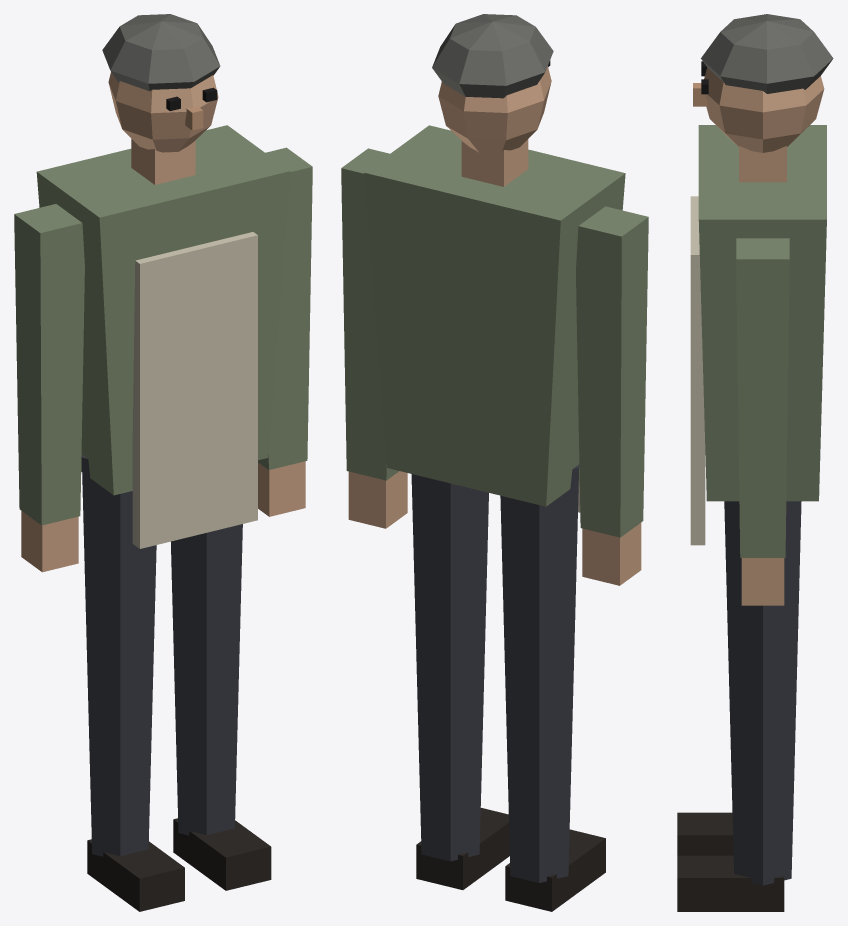
The model's file is padre.obj.
3 views of the same model, side by side, from view 1: azimuth 30°, elevation 25°; view 2: azimuth 150°, elevation 25°; view 3: azimuth 270°, elevation 25° (orthographic). The views are drawn at different scales.
Parts seen in each view (by area): view 1: parte_02, parte_00, parte_03, parte_04, parte_01, parte_05; view 2: parte_02, parte_00, parte_04, parte_05, parte_01; view 3: parte_02, parte_00, parte_04, parte_05, parte_01, parte_03.
Part boxes in pixels (x1=…): parte_02: x1=14, y1=125, x2=312, y2=525; parte_00: x1=81, y1=454, x2=242, y2=856; parte_03: x1=132, y1=232, x2=257, y2=548; parte_04: x1=21, y1=72, x2=305, y2=572; parte_01: x1=87, y1=818, x2=271, y2=911; parte_05: x1=102, y1=14, x2=220, y2=91; parte_02: x1=341, y1=125, x2=648, y2=537; parte_00: x1=411, y1=464, x2=579, y2=882; parte_04: x1=348, y1=66, x2=641, y2=585; parte_05: x1=432, y1=14, x2=553, y2=98; parte_01: x1=416, y1=808, x2=605, y2=911; parte_02: x1=698, y1=125, x2=826, y2=557; parte_00: x1=724, y1=501, x2=801, y2=885; parte_04: x1=704, y1=67, x2=824, y2=605; parte_05: x1=701, y1=14, x2=833, y2=93; parte_01: x1=677, y1=812, x2=784, y2=911; parte_03: x1=690, y1=196, x2=705, y2=545.
Bounding box in the file's own units: 0.6034 × 1.78 × 0.2939.
